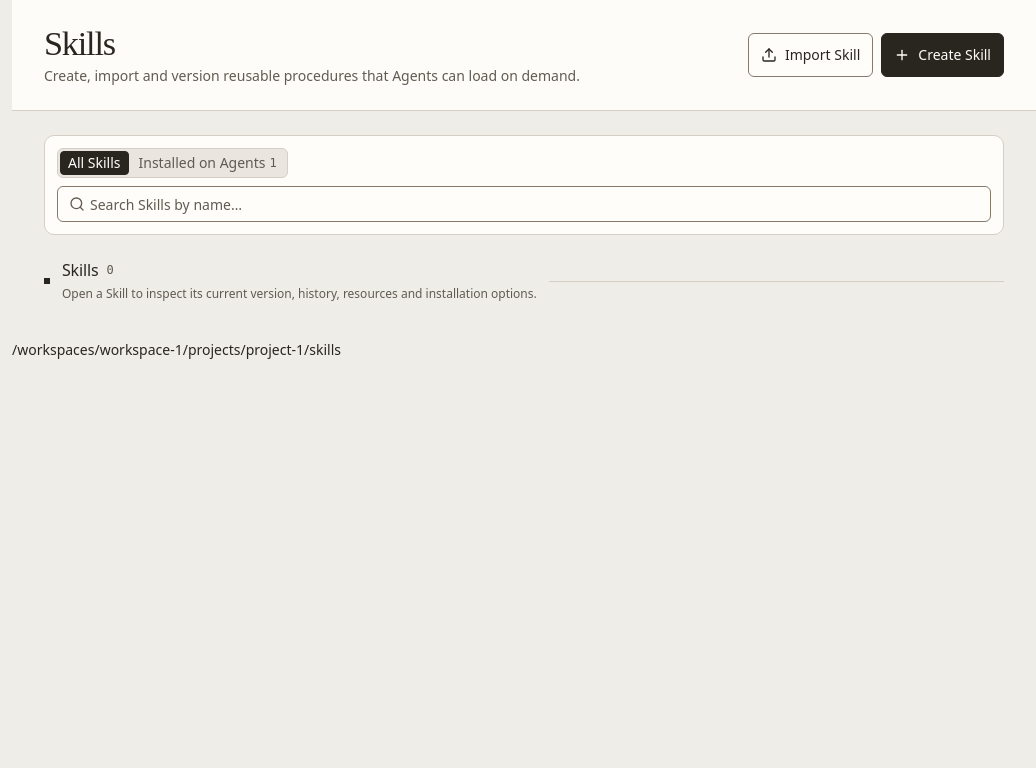
Test: Skills navigation regression › lists saved installations including disabled versions as operational cards and opens the Agent Skills editor
The width and height of the screenshot is (1036, 768).
Click the button "Installed on Agents 1": {"x": 208, "y": 163} [130, 151, 285, 175]
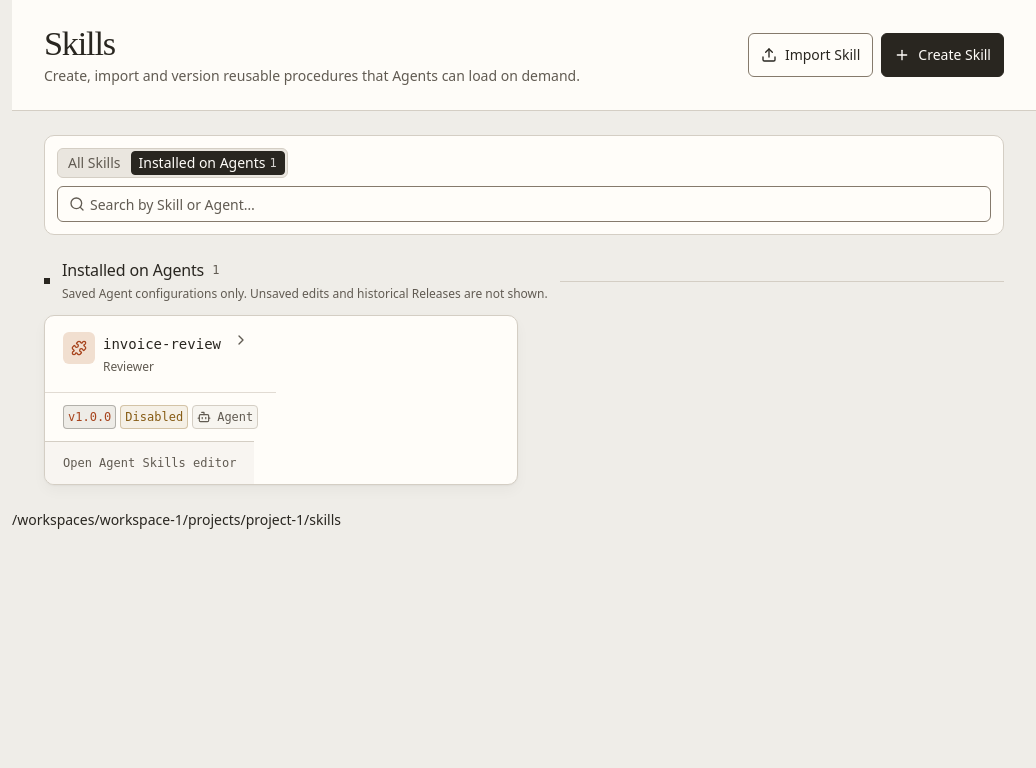
Now the text "v1.0.0" is shown, box [63, 405, 116, 429]
Now the text "Disabled" is shown, box [120, 405, 188, 429]
Click the button with aria-label "Open Agent Skills for Reviewer": {"x": 79, "y": 348} [44, 315, 518, 485]
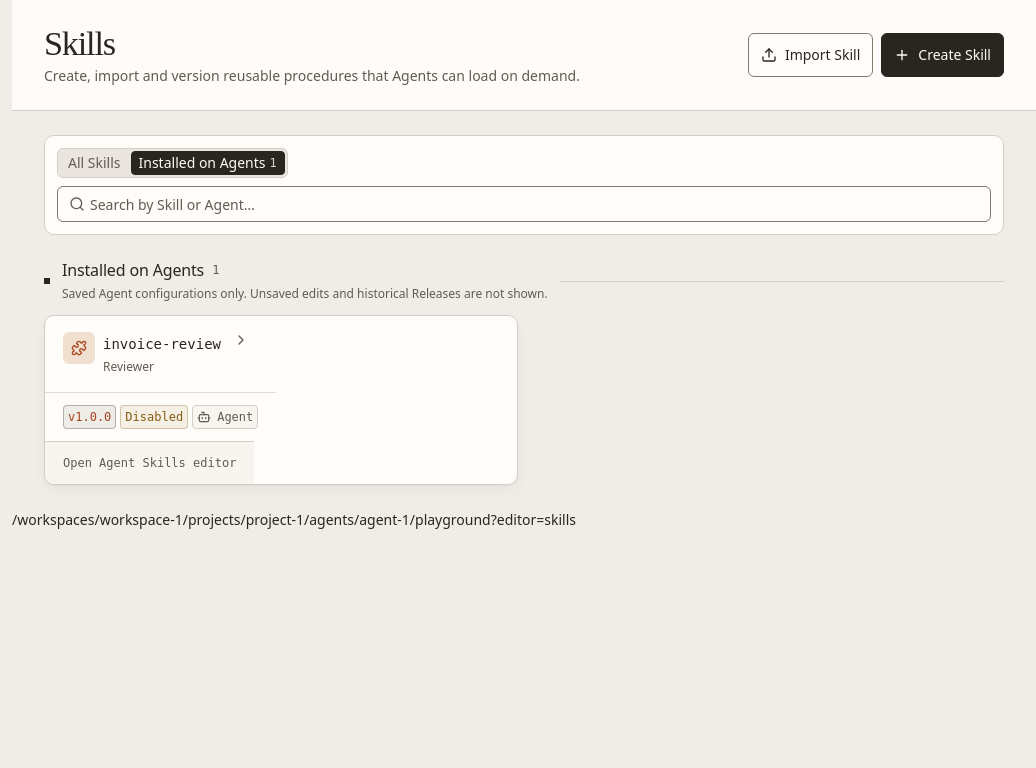
Now the text "/agents/agent-1/playground?editor=skills" is shown, box [12, 510, 576, 529]
